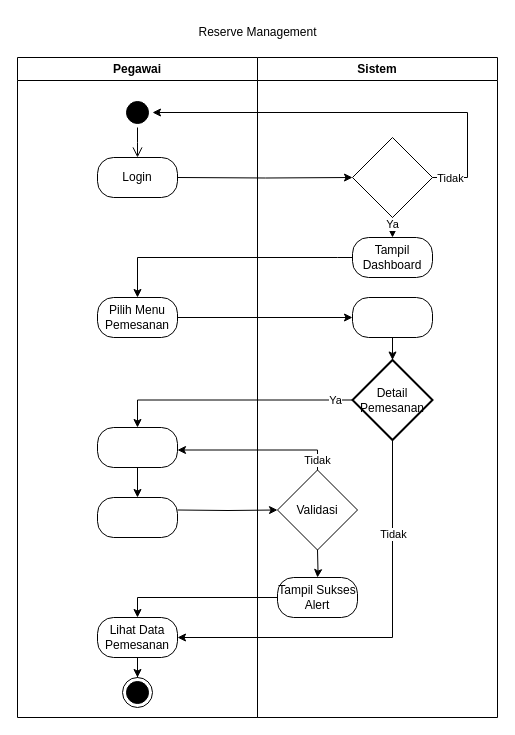
The diagram is 515 pixels wide and 735 high, and some of its shapes have lost their labels. The shapes that lost their labels are listed below. From the top down, each one's centre as x and y in pixels, then its label:
At (392,177): "Verifikasi".
At (392,317): "Tampil Data Pemesanan".
At (137,447): "Konfirmasi Pembayaran".
At (137,517): "Submit".
